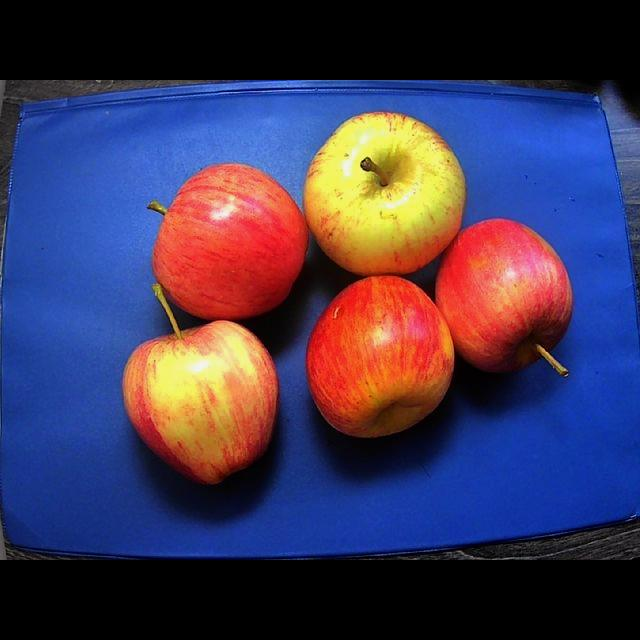manzana: (124, 284, 278, 484), (304, 111, 466, 275), (147, 163, 308, 319), (306, 276, 453, 436), (436, 218, 572, 375)
